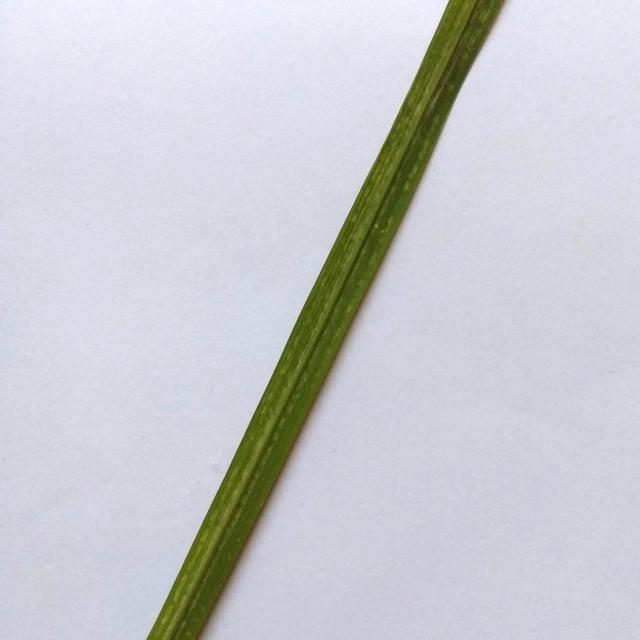Rice_Healthy: (147, 0, 503, 640)
